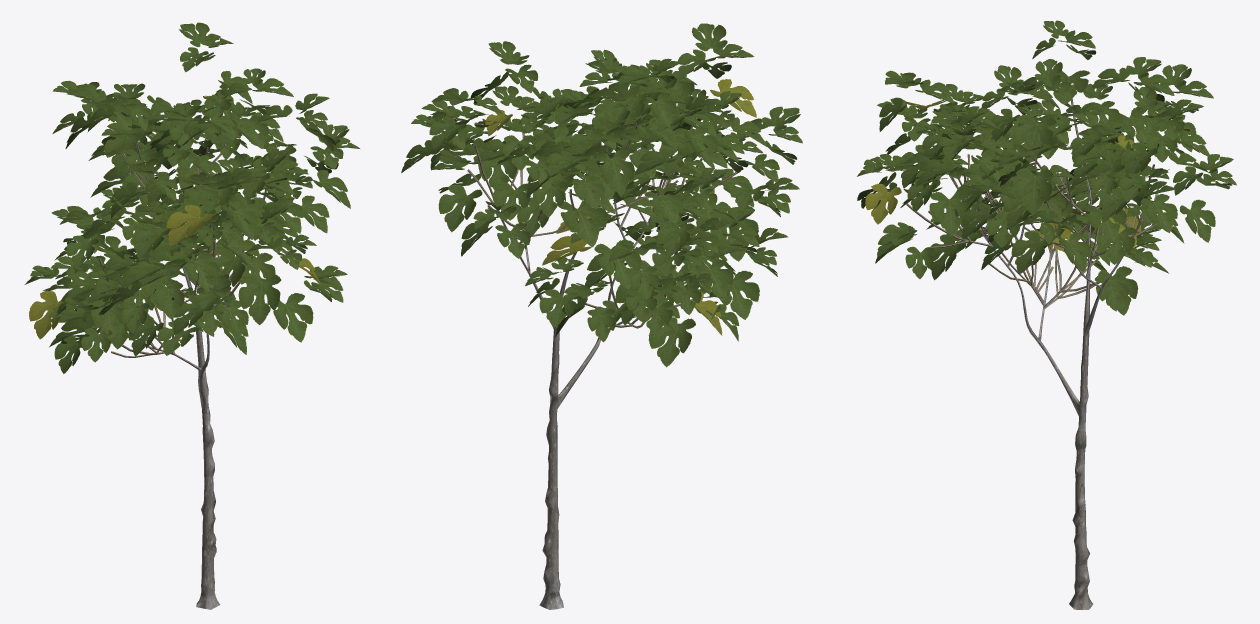
Rendered from fig_tree.glb.
The picture shows the model from 3 angles, left to right: view 1: azimuth 30°, elevation 25°; view 2: azimuth 150°, elevation 25°; view 3: azimuth 270°, elevation 25°; orthographic projection. The views are drawn at different scales.
Parts seen in each view (by area): view 1: leaves, bark, leaves_yellow, branch3; view 2: leaves, bark, leaves_yellow, branch3; view 3: leaves, bark, branch3, leaves_yellow, branch2, branch1.
Boxes of the visible parts, x1=… form: leaves: x1=24, y1=22, x2=359, y2=373; bark: x1=182, y1=267, x2=220, y2=609; leaves_yellow: x1=29, y1=95, x2=320, y2=339; branch3: x1=98, y1=117, x2=297, y2=357; leaves: x1=401, y1=23, x2=802, y2=367; bark: x1=523, y1=250, x2=631, y2=609; leaves_yellow: x1=485, y1=79, x2=756, y2=335; branch3: x1=467, y1=117, x2=737, y2=327; leaves: x1=857, y1=20, x2=1236, y2=315; bark: x1=1004, y1=240, x2=1107, y2=609; branch3: x1=906, y1=98, x2=1158, y2=298; leaves_yellow: x1=865, y1=100, x2=1141, y2=252; branch2: x1=945, y1=147, x2=1141, y2=309; branch1: x1=976, y1=189, x2=1125, y2=341.
Bounding box in the file's own units: 3.26 × 5.1 × 3.47.
6 materials, 6 textured.
